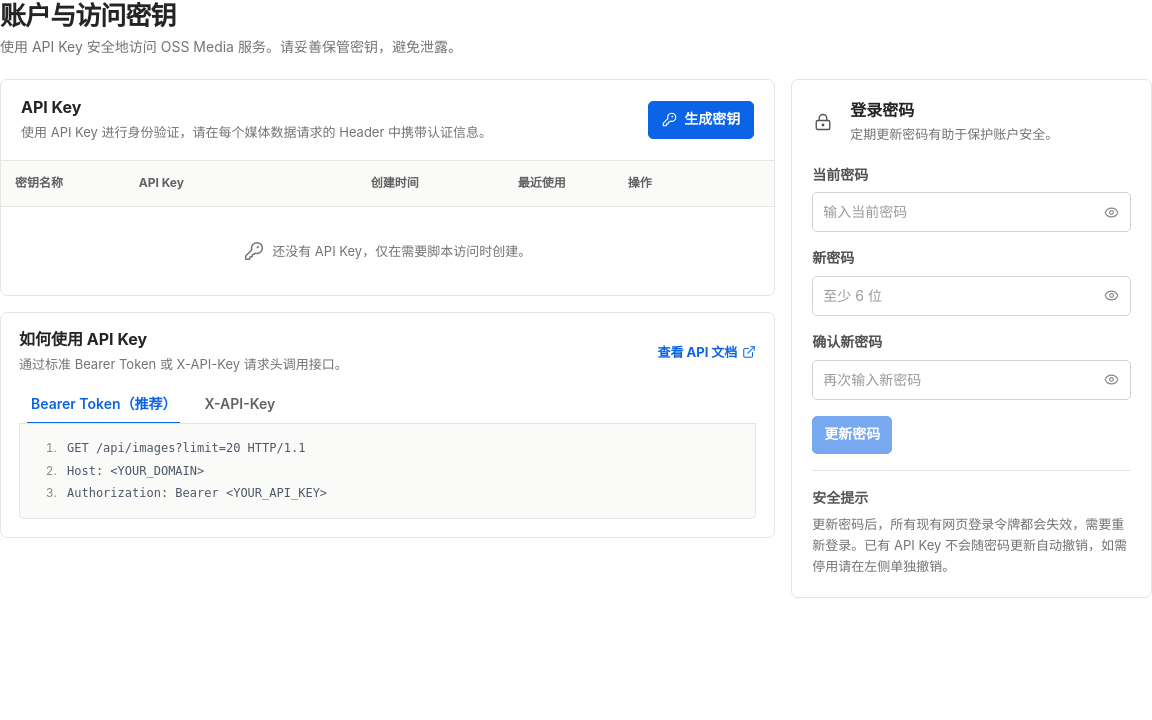
AccountView › asks for a name only after the user clicks generate key
The width and height of the screenshot is (1152, 720).
Click the button with class "generate-key-button" at coordinates (701, 120), box [648,101,754,139]
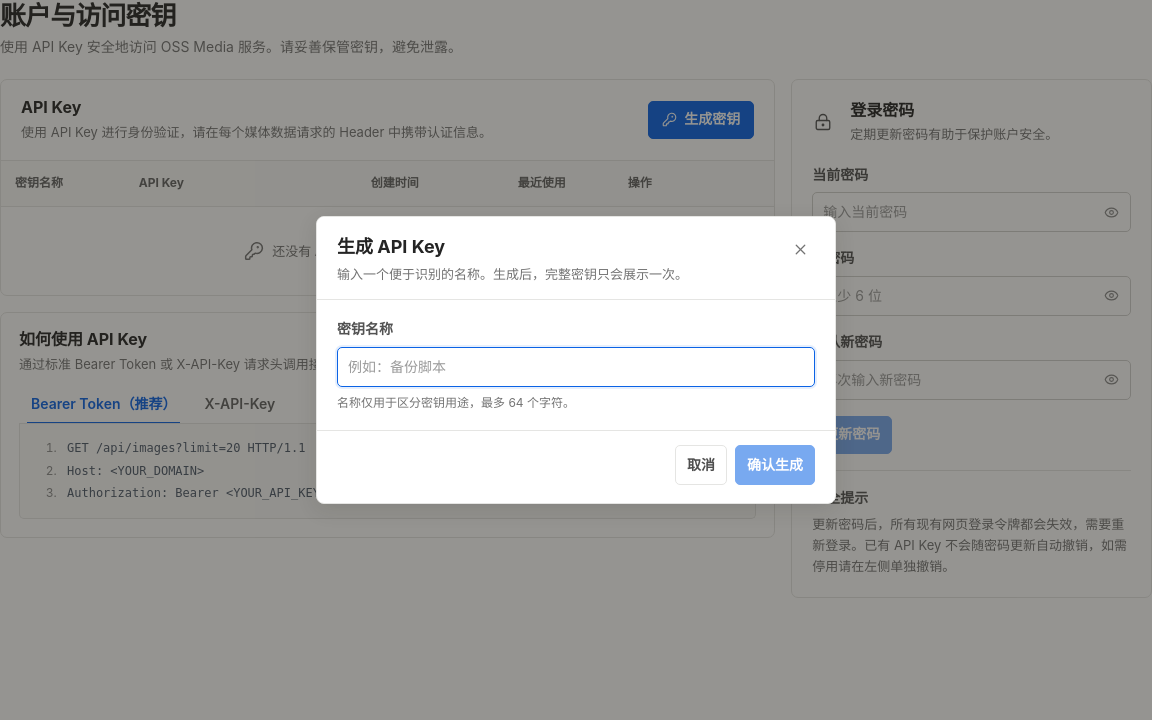
expect the dialog with class "base-modal-panel" is shown: met, box [316,216,836,504]
